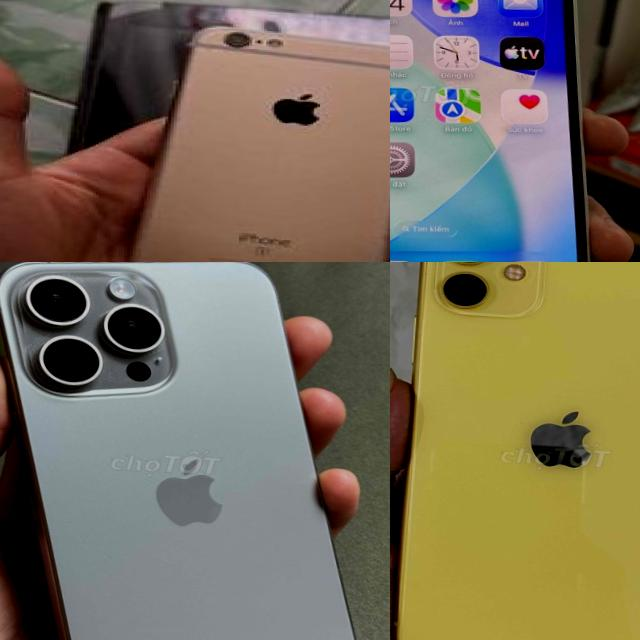gen_14: (392, 262, 640, 640), (390, 0, 616, 262)
gen_15: (0, 262, 390, 640)
gen_6: (118, 12, 390, 262)
